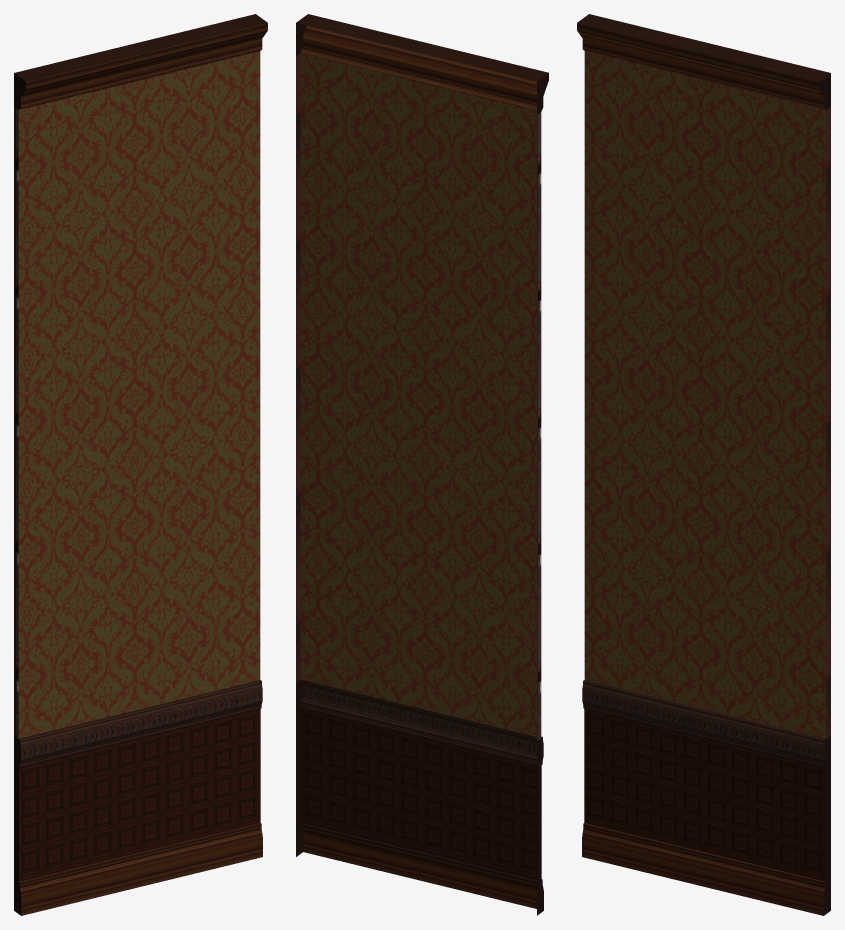
File: Wall_DinningRoom_Short.fbx
3 views of the same model, side by side, from view 1: azimuth 30°, elevation 25°; view 2: azimuth 150°, elevation 25°; view 3: azimuth 330°, elevation 25° (orthographic).
Parts seen in each view (by area): view 1: WallSectionDiningRoom_Short; view 2: WallSectionDiningRoom_Short; view 3: WallSectionDiningRoom_Short.
Boxes of the visible parts, bbox=[...] form: WallSectionDiningRoom_Short: bbox=[14, 14, 267, 915]; WallSectionDiningRoom_Short: bbox=[296, 14, 548, 915]; WallSectionDiningRoom_Short: bbox=[577, 14, 830, 915].
Bounding box in the file's own units: 185 × 611 × 15.9.
